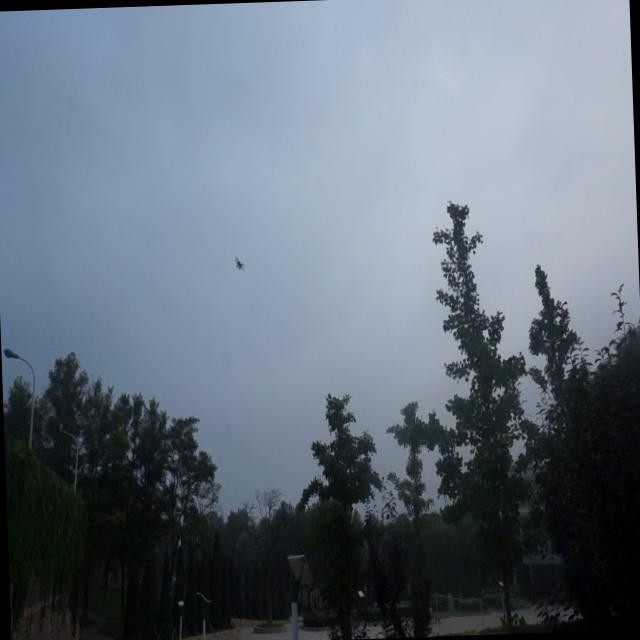drone: (231, 251, 246, 276)
